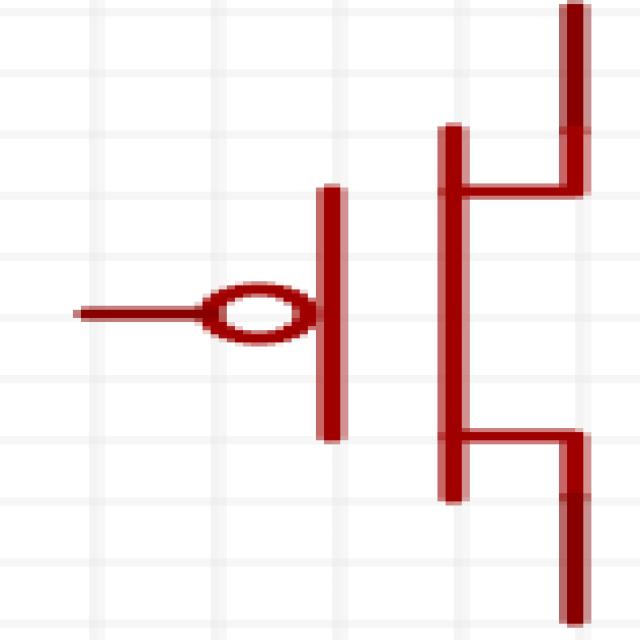pmos: (94, 76, 640, 604)
